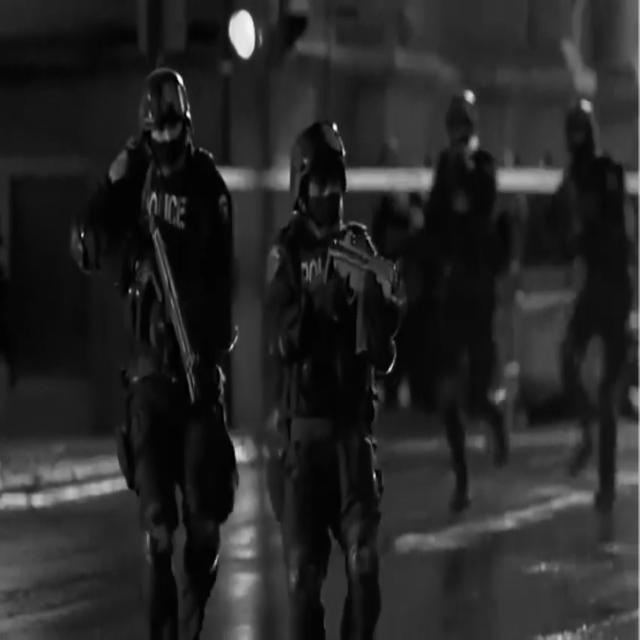gun: (148, 216, 202, 408), (326, 233, 404, 354)
